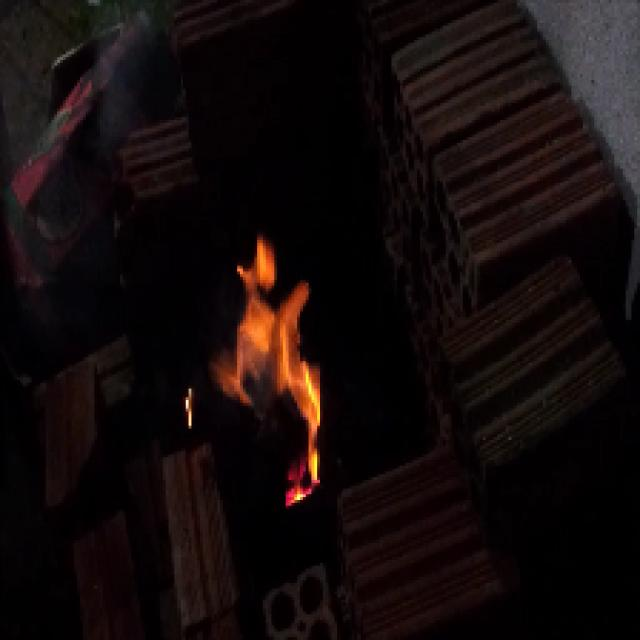fire: (228, 235, 334, 487)
